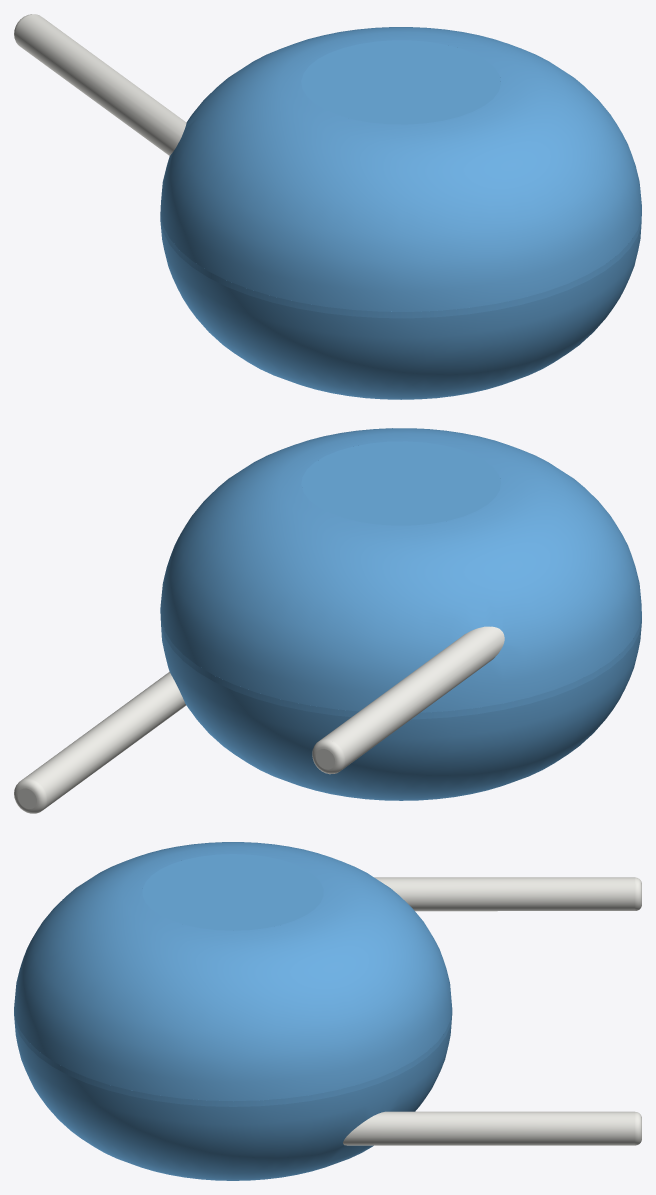
File: RV_Disc_D7mm_W4.2mm_P5mm.glb
The picture shows the model from 3 angles, top to bottom: view 1: azimuth 30°, elevation 25°; view 2: azimuth 150°, elevation 25°; view 3: azimuth 270°, elevation 25°; orthographic projection. The views are drawn at different scales.
Visible parts, largest first — view 1: Shape_IndexedFaceSet.001, Shape_IndexedFaceSet.002, Shape_IndexedFaceSet.003, Shape_IndexedFaceSet.004, Shape_IndexedFaceSet; view 2: Shape_IndexedFaceSet.001, Shape_IndexedFaceSet.002, Shape_IndexedFaceSet.003, Shape_IndexedFaceSet.004, Shape_IndexedFaceSet.006, Shape_IndexedFaceSet, Shape_IndexedFaceSet.007, Shape_IndexedFaceSet.008; view 3: Shape_IndexedFaceSet.001, Shape_IndexedFaceSet.002, Shape_IndexedFaceSet.003, Shape_IndexedFaceSet.006, Shape_IndexedFaceSet.004, Shape_IndexedFaceSet.
Boxes of the visible parts, bbox=[...] form: Shape_IndexedFaceSet.001: bbox=[160, 27, 641, 311]; Shape_IndexedFaceSet.002: bbox=[160, 221, 641, 399]; Shape_IndexedFaceSet.003: bbox=[301, 40, 500, 124]; Shape_IndexedFaceSet.004: bbox=[15, 14, 186, 155]; Shape_IndexedFaceSet: bbox=[160, 210, 641, 318]; Shape_IndexedFaceSet.001: bbox=[160, 428, 641, 712]; Shape_IndexedFaceSet.002: bbox=[161, 622, 641, 800]; Shape_IndexedFaceSet.003: bbox=[301, 441, 501, 525]; Shape_IndexedFaceSet.004: bbox=[318, 626, 504, 769]; Shape_IndexedFaceSet.006: bbox=[22, 672, 186, 809]; Shape_IndexedFaceSet: bbox=[160, 607, 641, 719]; Shape_IndexedFaceSet.007: bbox=[312, 739, 345, 774]; Shape_IndexedFaceSet.008: bbox=[14, 779, 47, 813]; Shape_IndexedFaceSet.001: bbox=[14, 842, 452, 1100]; Shape_IndexedFaceSet.002: bbox=[14, 1015, 452, 1180]; Shape_IndexedFaceSet.003: bbox=[142, 854, 323, 930]; Shape_IndexedFaceSet.006: bbox=[343, 1111, 635, 1145]; Shape_IndexedFaceSet.004: bbox=[374, 877, 635, 911]; Shape_IndexedFaceSet: bbox=[14, 1009, 452, 1106].
Bounding box in the file's own units: 2.76 × 1.65 × 3.95.
